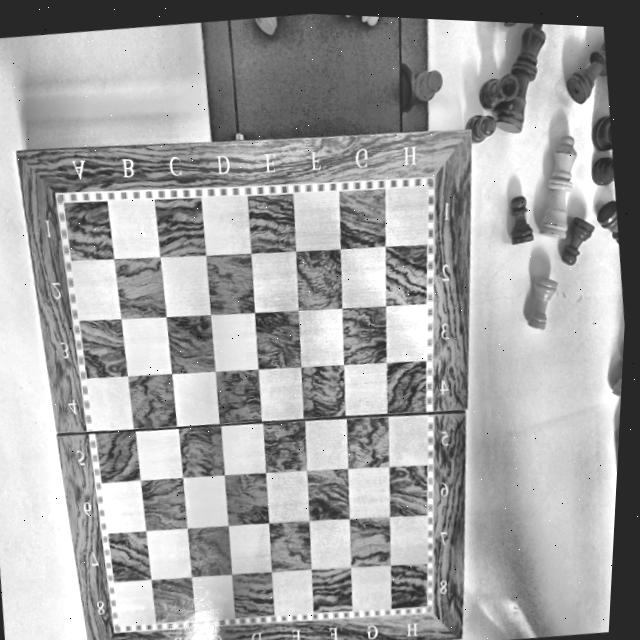chessboard: (17, 128, 467, 640)
